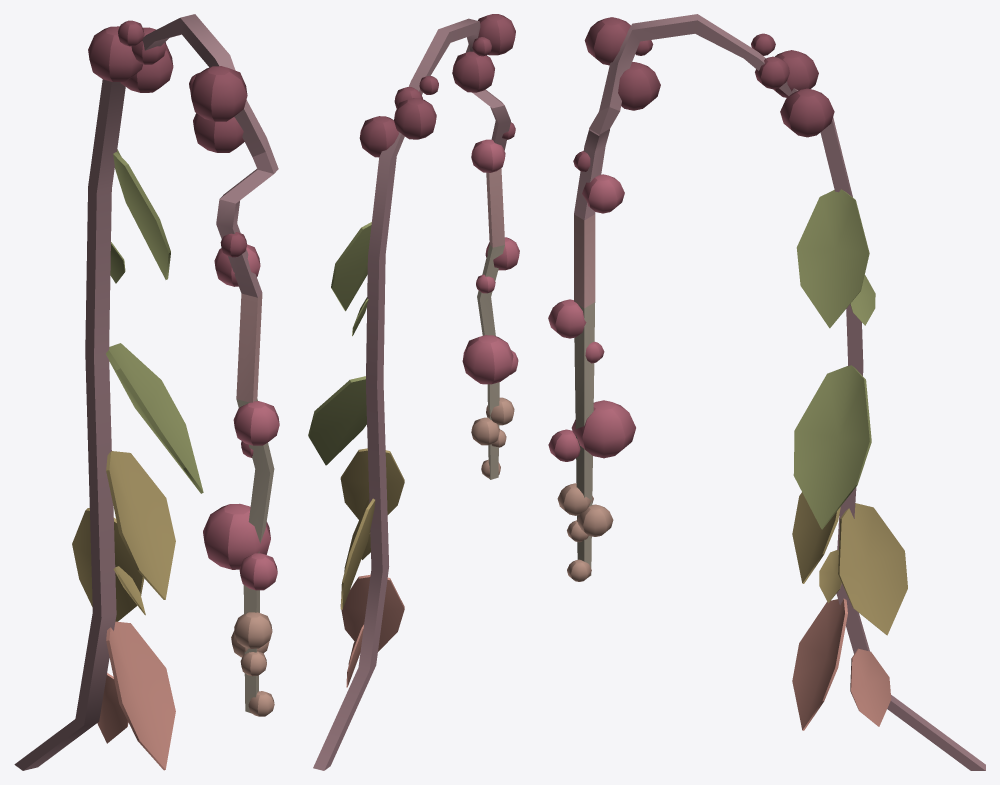
The model's file is plate_chelou.fbx.
3 views of the same model, side by side, from view 1: azimuth 30°, elevation 25°; view 2: azimuth 150°, elevation 25°; view 3: azimuth 270°, elevation 25° (orthographic). The views are drawn at different scales.
Visible parts, largest first — view 1: pCube145; view 2: pCube145; view 3: pCube145.
Part boxes in pixels (box(x1,y1,x2,y2)): pCube145: box(14, 14, 279, 770); pCube145: box(308, 14, 519, 770); pCube145: box(548, 14, 985, 770).
Size of the model in its own units: 0.5903 by 3.6 by 1.91.
